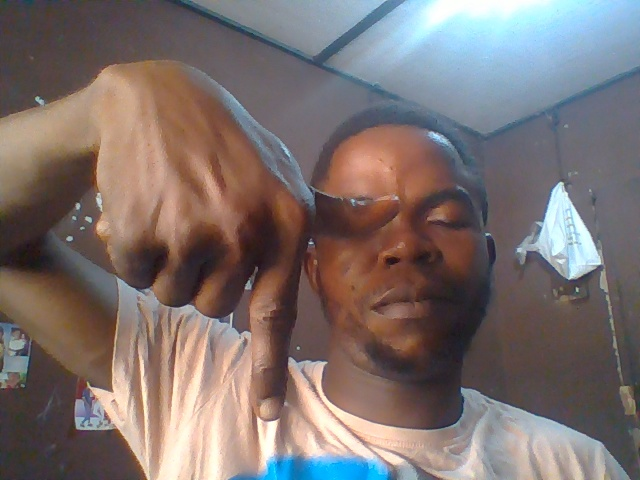Down: (86, 57, 404, 430)
